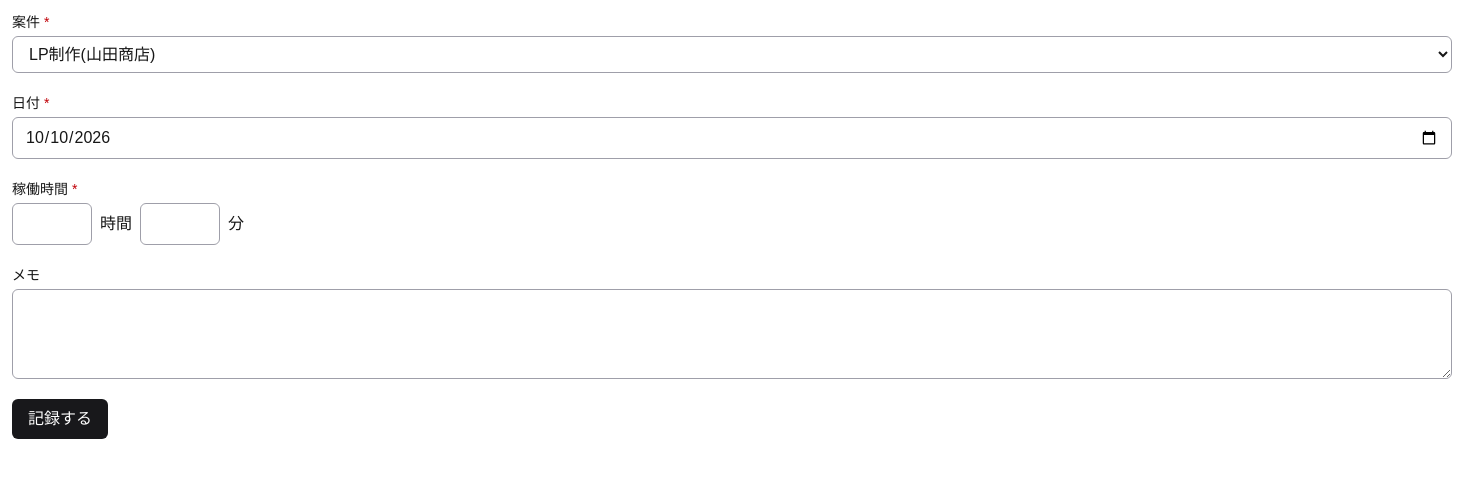
Scenario: TimeEntryForm の画面の検証 › 分が範囲外なら、サーバーと同じ文言を出す
Type "60" into the field labelled "分". click: (180, 224)
box: [140,203,220,245]
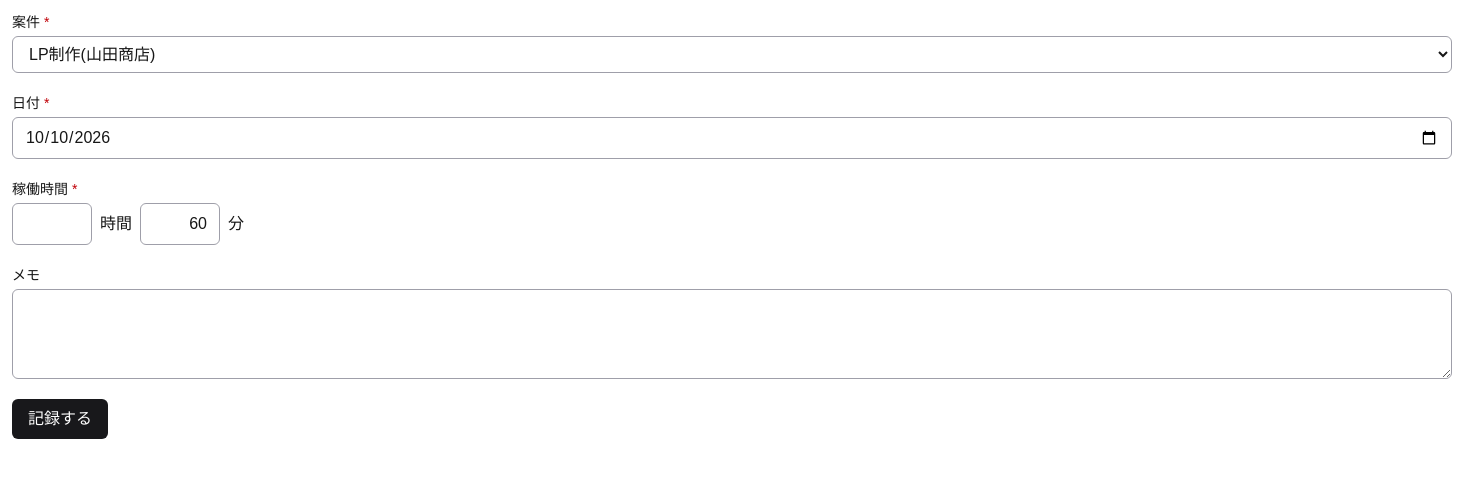
Click the button "記録する". click: (60, 419)
box: [12,399,108,439]
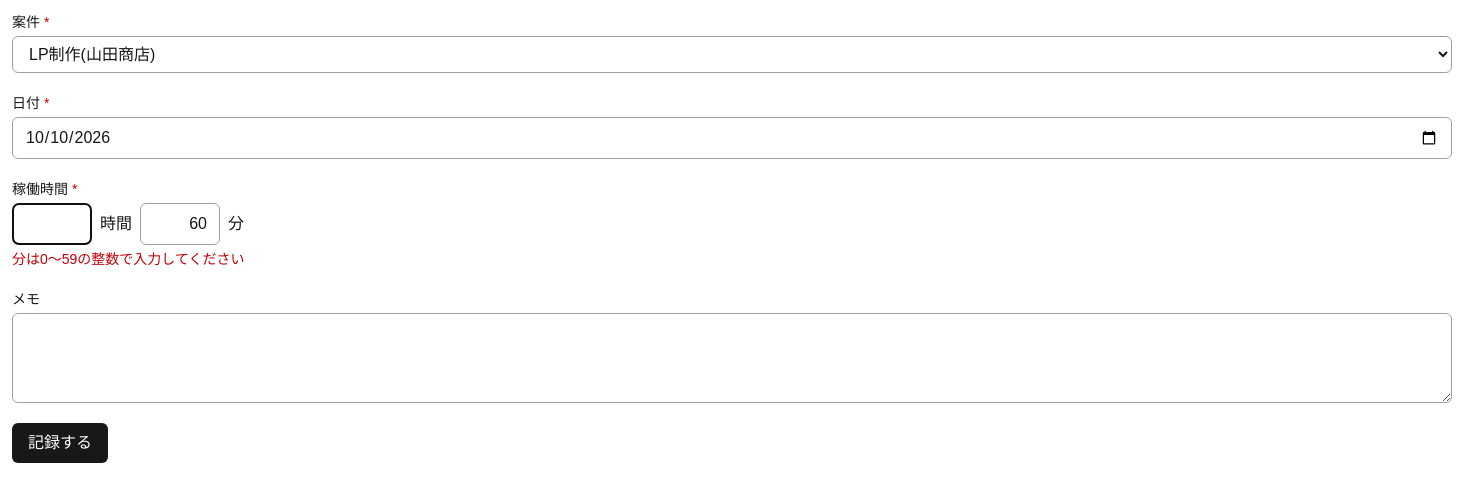
Expected: the text "分は0〜59の整数で入力してください" is shown, [12,251,244,267]
